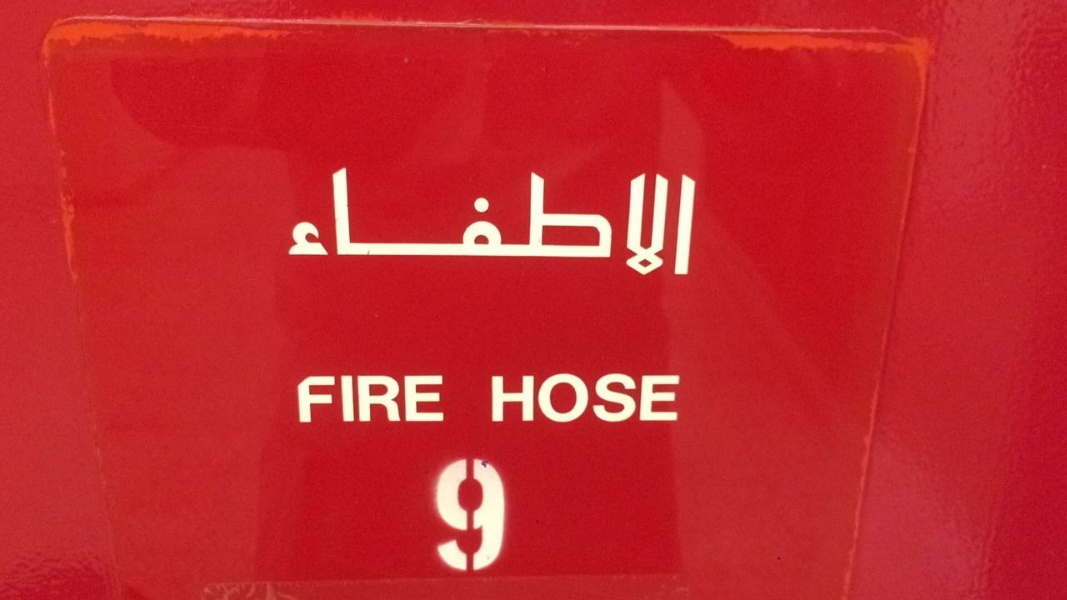text: (433, 453, 448, 572), (449, 453, 464, 572), (465, 453, 480, 572), (481, 453, 496, 572), (289, 162, 304, 276), (305, 162, 320, 276), (321, 162, 336, 276), (337, 162, 352, 276), (353, 162, 368, 276), (369, 162, 384, 276), (385, 162, 400, 276), (401, 162, 416, 276), (417, 162, 432, 276), (433, 162, 448, 276), (449, 162, 464, 276), (465, 162, 480, 276), (481, 162, 496, 276), (497, 162, 512, 276), (513, 162, 528, 276), (529, 162, 544, 276), (545, 162, 560, 276), (561, 162, 576, 276), (577, 162, 592, 276), (593, 162, 608, 276), (609, 162, 624, 276), (625, 162, 640, 276), (641, 162, 656, 276), (657, 162, 672, 276), (673, 162, 688, 276), (497, 453, 508, 572), (689, 162, 700, 276), (497, 373, 512, 425), (513, 373, 528, 425), (529, 373, 544, 425), (545, 373, 560, 425), (561, 373, 576, 425), (577, 373, 592, 425), (593, 373, 608, 425), (609, 373, 624, 425), (625, 373, 640, 425), (641, 373, 656, 425), (657, 373, 672, 425), (305, 375, 320, 423), (321, 375, 336, 423), (337, 375, 352, 423), (353, 375, 368, 423), (369, 375, 384, 423), (385, 375, 400, 423), (401, 375, 416, 423), (417, 375, 432, 423), (433, 375, 446, 423), (673, 373, 680, 425), (285, 162, 288, 276), (491, 373, 496, 425), (299, 375, 304, 423)
